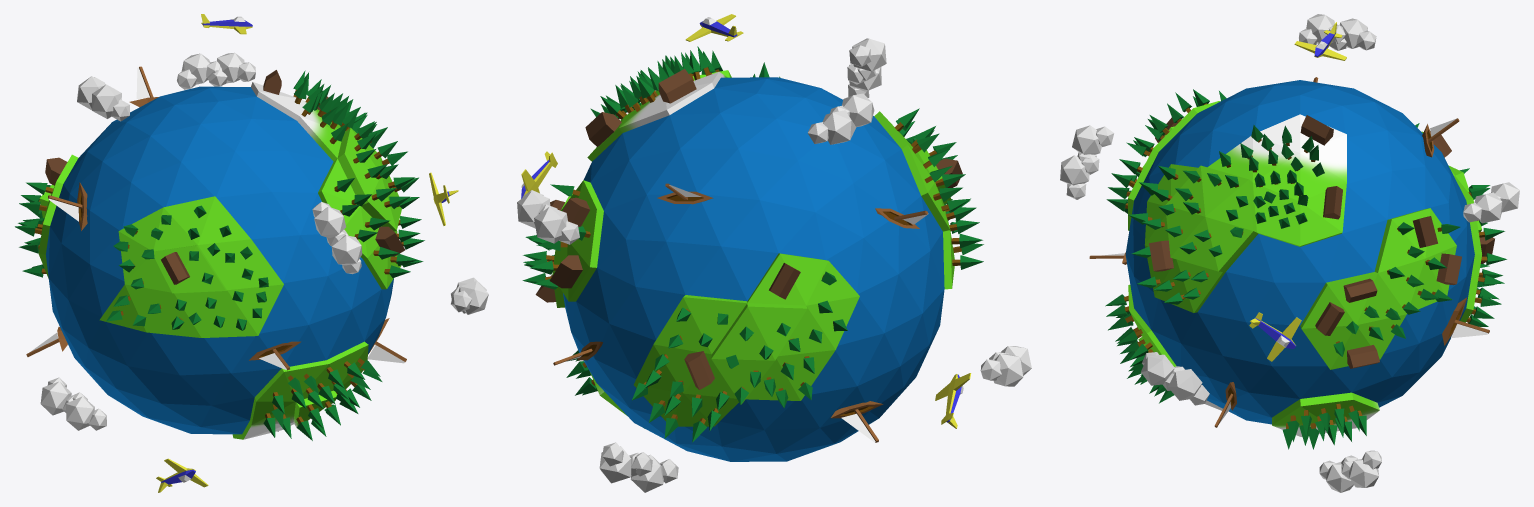
The model's file is low-poly-world.glb.
3 renders of one model, left to right at view 1: azimuth 30°, elevation 25°; view 2: azimuth 150°, elevation 25°; view 3: azimuth 270°, elevation 25°, orthographic. The views are drawn at different scales.
Visible parts, largest first — view 1: Water, Icosphere, Icosphere.028, Boat, Icosphere.025, Icosphere.031, Icosphere.034, Icosphere.004, Airplane.002, Boat.006, Icosphere.016, House.006 (+6 smaller); view 2: Water, Icosphere, Icosphere.010, Boat.001, House.001, Icosphere.001, Airplane.002, Icosphere.004, House.009, Icosphere.034, House, Airplane (+10 smaller); view 3: Water, Icosphere, Airplane.001, Boat.002, Icosphere.013, Icosphere.016, Airplane, Icosphere.028, Icosphere.025, Icosphere.022, Icosphere.007, House.008 (+12 smaller).
Part boxes in pixels (x1,y1,x2,y2): Water: (45,86,393,434); Icosphere: (38,82,401,439); Icosphere.028: (314,206,345,238); Boat: (48,182,87,230); Icosphere.025: (331,235,362,265); Icosphere.031: (66,396,94,430); Icosphere.034: (40,381,71,415); Icosphere.004: (92,84,121,118); Airplane.002: (156,458,208,492); Boat.006: (249,341,301,370); Icosphere.016: (458,281,488,314); House.006: (161,252,189,284); Water: (563,77,944,461); Icosphere: (552,70,954,428); Icosphere.010: (534,206,567,243); Boat.001: (831,401,882,442); House.001: (658,68,696,103); Icosphere.001: (822,110,856,144); Airplane.002: (935,373,971,428); Icosphere.004: (842,93,874,127); House.009: (684,351,714,389); Icosphere.034: (993,353,1023,386); House: (585,112,621,146); Airplane: (685,14,743,41); Water: (1125,80,1474,424); Icosphere: (1128,101,1481,436); Airplane.001: (1249,312,1301,361); Boat.002: (1442,297,1489,345); Icosphere.013: (1168,369,1202,400); Icosphere.016: (1141,354,1174,385); Airplane: (1294,22,1346,60); Icosphere.028: (1072,125,1101,154); Icosphere.025: (1060,155,1089,185); Icosphere.022: (1349,459,1378,487); Icosphere.007: (1474,192,1502,223); House.008: (1149,240,1173,271).
Bounding box in the file's own units: 6.59 × 6.38 × 6.16.
Materials: 12 (1 with a texture image).
